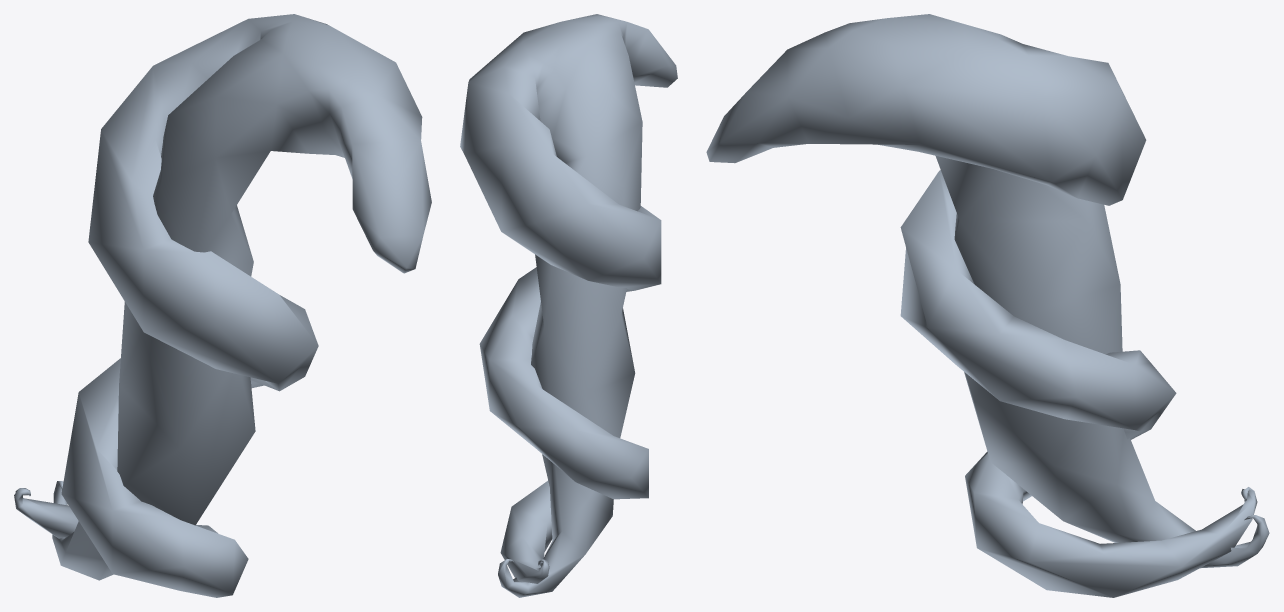
The model's file is Tail_10.fbx.
3 renders of one model, left to right at view 1: azimuth 30°, elevation 25°; view 2: azimuth 150°, elevation 25°; view 3: azimuth 270°, elevation 25°, orthographic. The views are drawn at different scales.
Parts seen in each view (by area): view 1: Tail_10; view 2: Tail_10; view 3: Tail_10.
Part boxes in pixels (x1,y1,x2,y2): Tail_10: [14, 14, 431, 597]; Tail_10: [460, 14, 677, 597]; Tail_10: [706, 14, 1269, 597].
Size of the model in its own units: 77.86 by 167 by 145.
